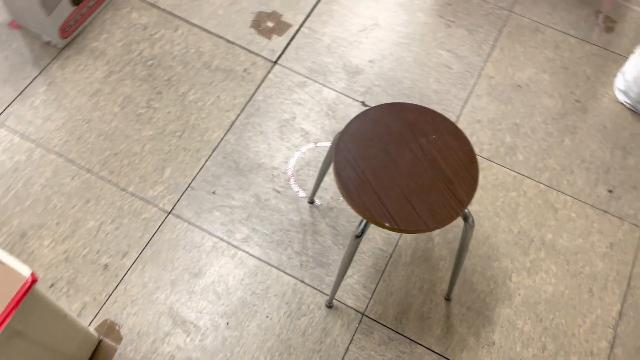Stool: (302, 98, 484, 312)
